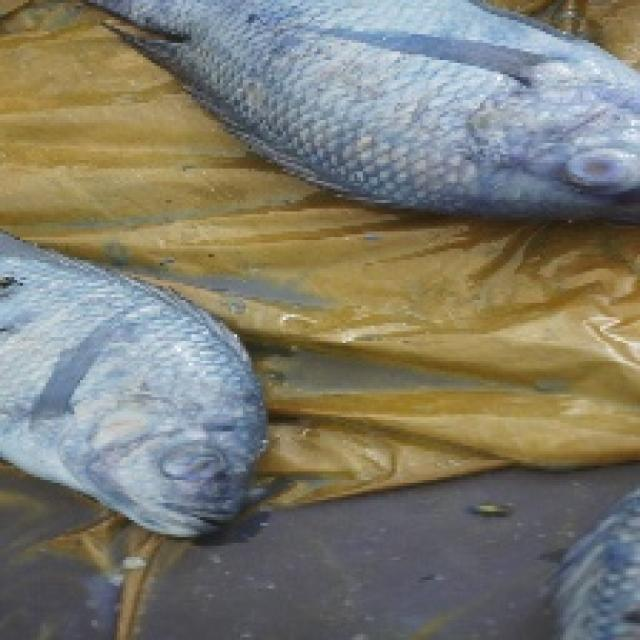Non-Fresh: (175, 0, 634, 206), (6, 262, 295, 546)
